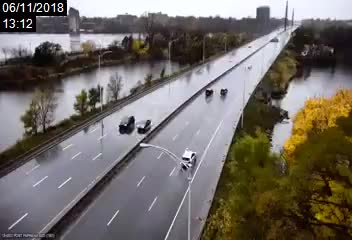personal_car: (117, 113, 137, 132), (180, 148, 197, 169), (136, 118, 152, 132), (203, 86, 213, 97), (217, 87, 229, 96)
